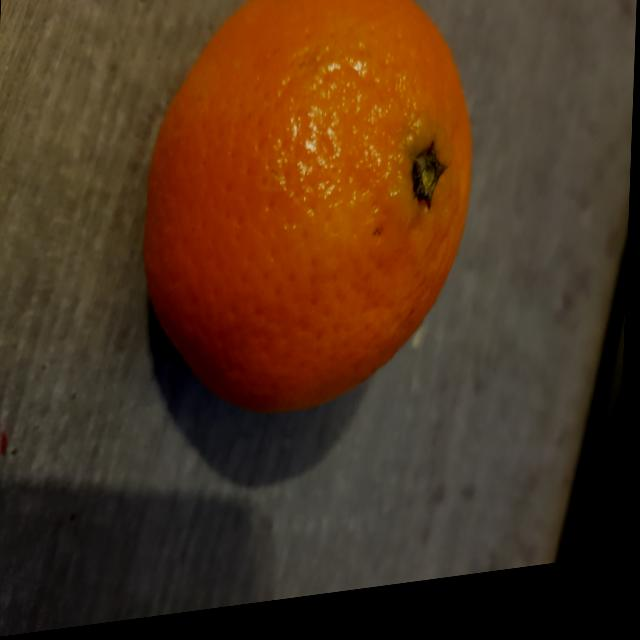Orange: (142, 0, 473, 422)
